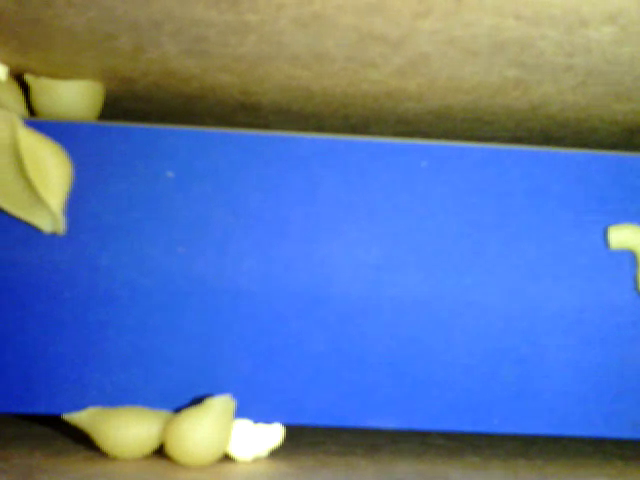elbow: (607, 220, 639, 277)
shell: (2, 108, 71, 239), (57, 405, 178, 463), (164, 392, 240, 470), (27, 74, 109, 125)
